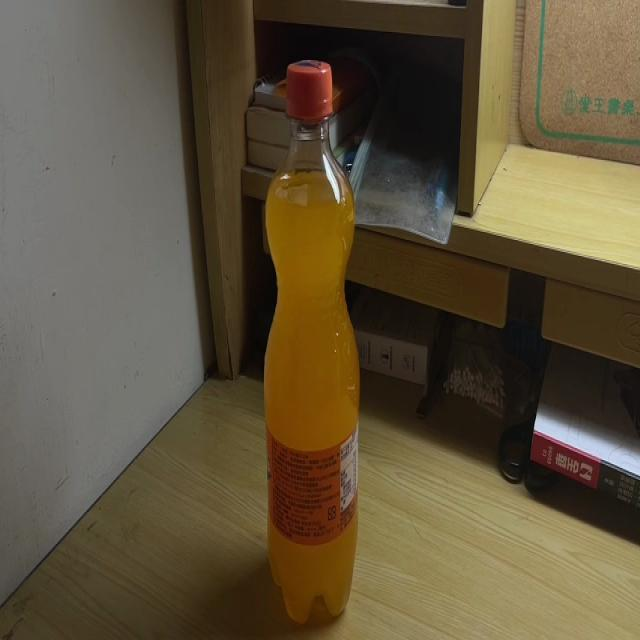Fanta: (263, 58, 360, 624)
